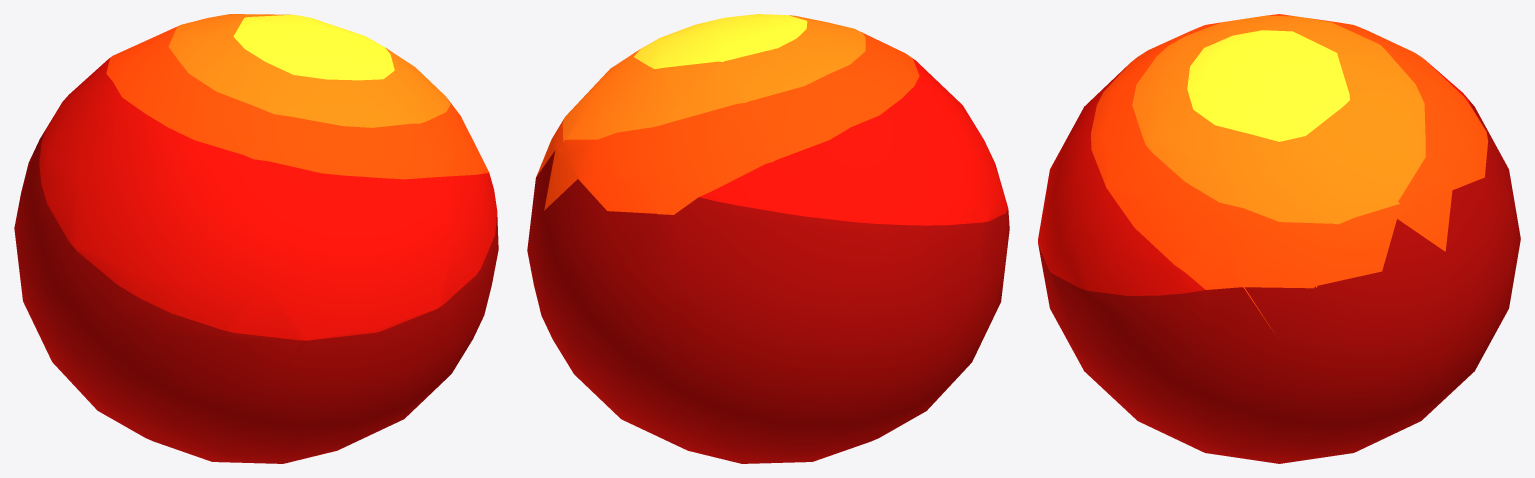
The model's file is fruit_ember_96.glb.
3 renders of one model, left to right at view 1: azimuth 30°, elevation 25°; view 2: azimuth 150°, elevation 25°; view 3: azimuth 270°, elevation 25°, orthographic.
Visible parts, largest first — view 1: fruit_ember_96; view 2: fruit_ember_96; view 3: fruit_ember_96.
Boxes of the visible parts, x1=… form: fruit_ember_96: x1=14, y1=14, x2=498, y2=463; fruit_ember_96: x1=527, y1=14, x2=1009, y2=463; fruit_ember_96: x1=1038, y1=14, x2=1520, y2=463.
Bounding box in the file's own units: 6 × 5.5 × 6.
